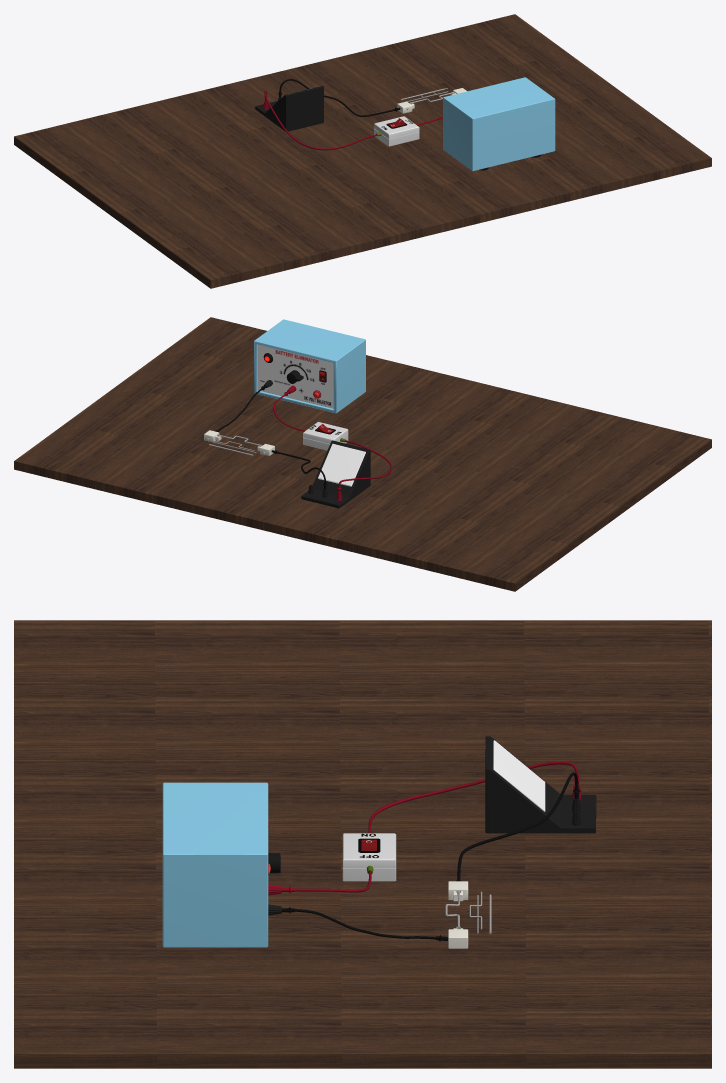
Rendered from Ohmslaw_v02.fbx.
3 views of the same model, one above another, from view 1: azimuth 30°, elevation 25°; view 2: azimuth 150°, elevation 25°; view 3: azimuth 270°, elevation 25° (orthographic). The views are drawn at different scales.
Parts seen in each view (by area): view 1: Table1, Power_Supply, Ammeter1, Board; view 2: Table1, Power_Supply, Ammeter1, Glass, Board; view 3: Table1, Power_Supply, Ammeter1, Board, Glass, Red_Wire_03.
Boxes of the visible parts, x1,y1,x2,y2 form: Table1: (14,14,711,288); Power_Supply: (443,77,555,171); Ammeter1: (255,86,323,131); Board: (374,116,419,146); Table1: (14,317,711,591); Power_Supply: (254,319,365,413); Ammeter1: (301,440,370,508); Glass: (318,443,365,486); Board: (303,422,348,450); Table1: (14,620,711,1068); Power_Supply: (162,782,281,947); Ammeter1: (485,736,596,833); Board: (342,833,396,881); Glass: (493,740,545,811); Red_Wire_03: (368,761,580,833).
Size of the model in its own units: 78.23 by 9.72 by 53.2.
